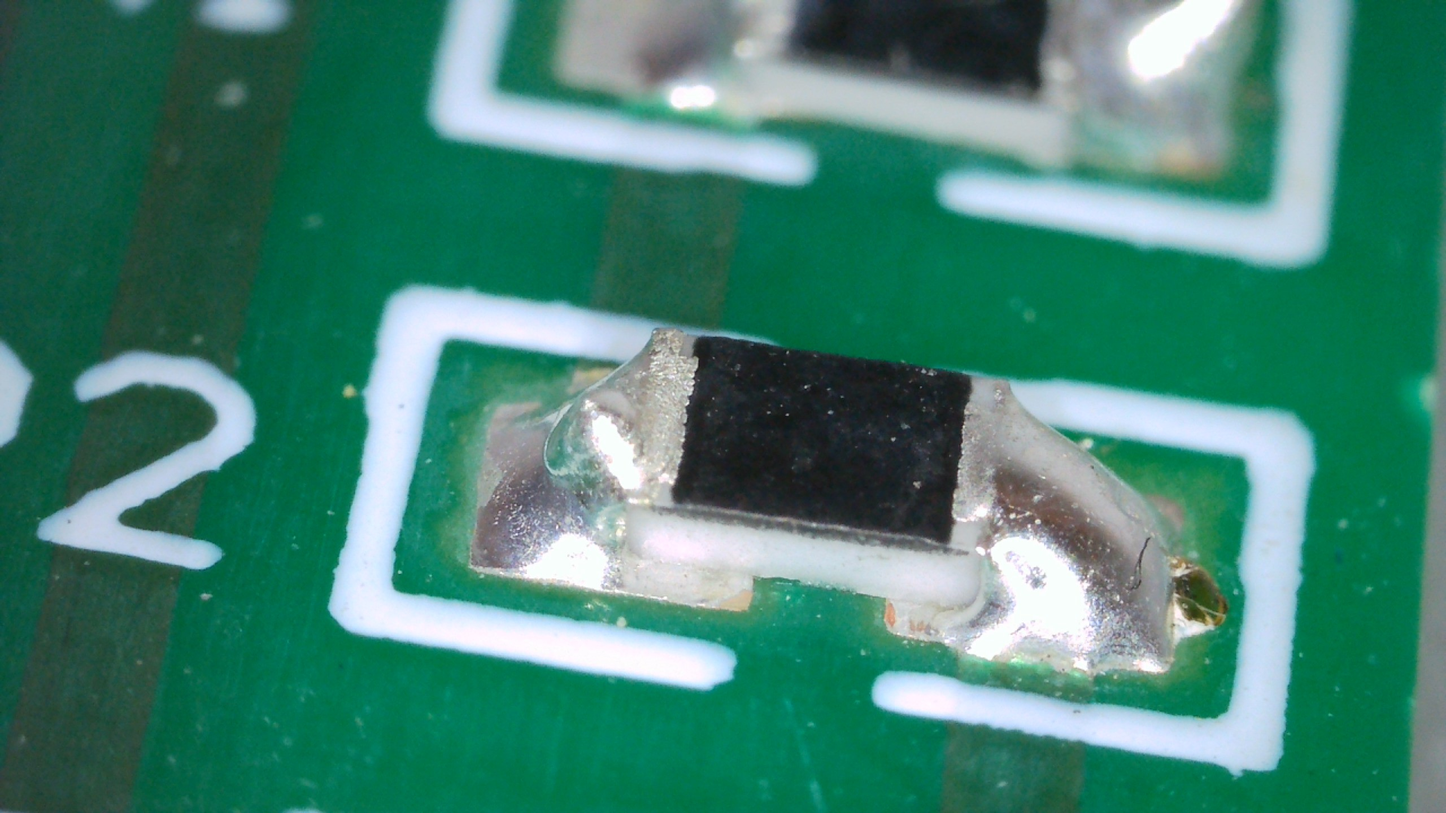NG: (886, 377, 1187, 678), (542, 391, 648, 494)
OK: (470, 329, 757, 609)
